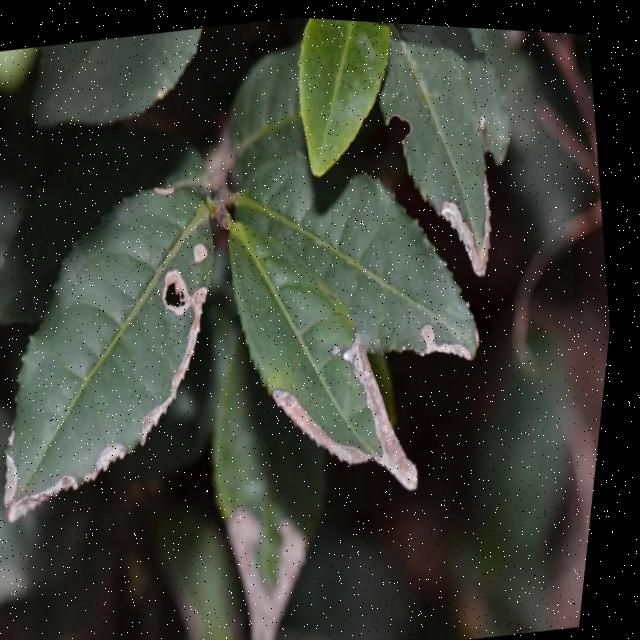Tea cloud leaf blight: (0, 264, 259, 570), (260, 308, 477, 533), (433, 153, 522, 278), (417, 279, 506, 371)
